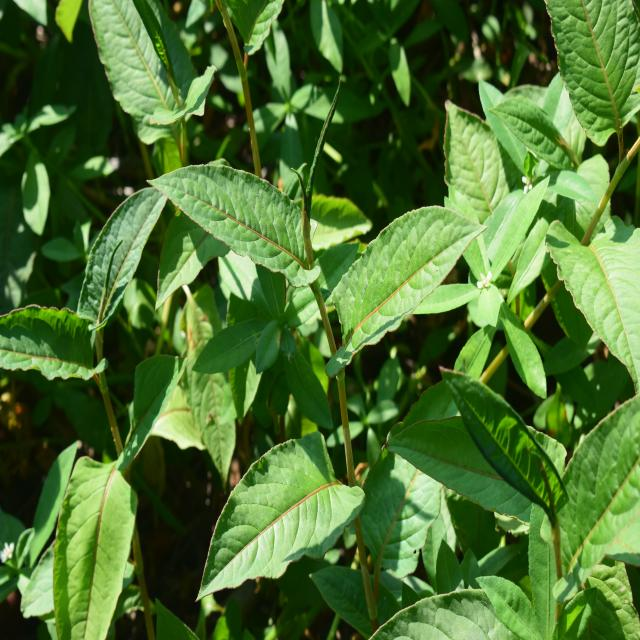Chinese_knotweed: (177, 146, 459, 573), (14, 200, 169, 640)
